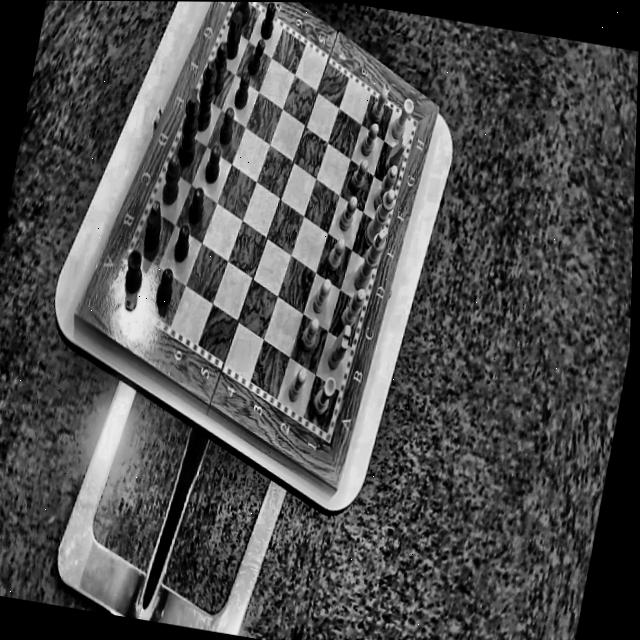chessboard: (118, 2, 413, 429)
